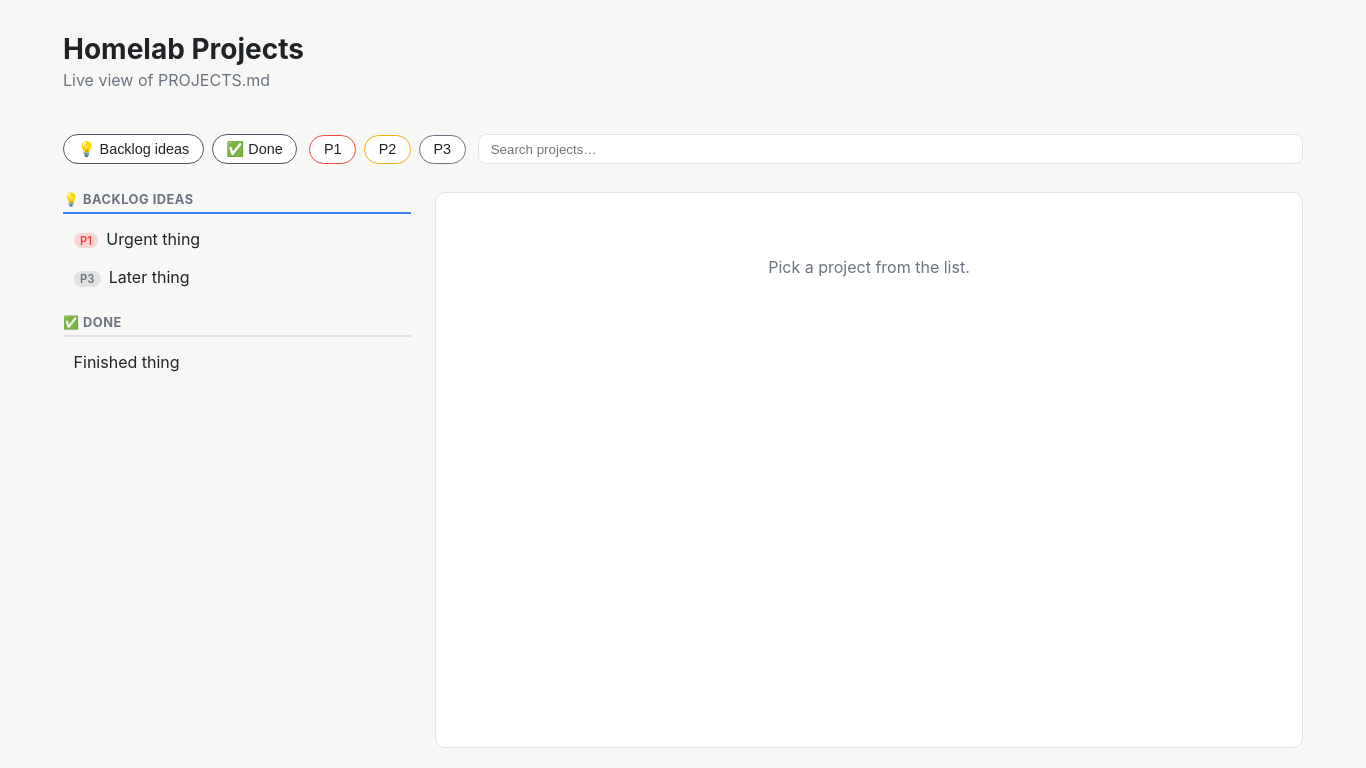
Test case: App priorities › hides a priority when its chip is toggled off, leaving untagged projects alone
expect the text "Urgent thing" is shown: met, box x1=106 y1=229 x2=200 y2=249
Click the button "P3".
click(442, 149)  # box x1=419 y1=134 x2=466 y2=164
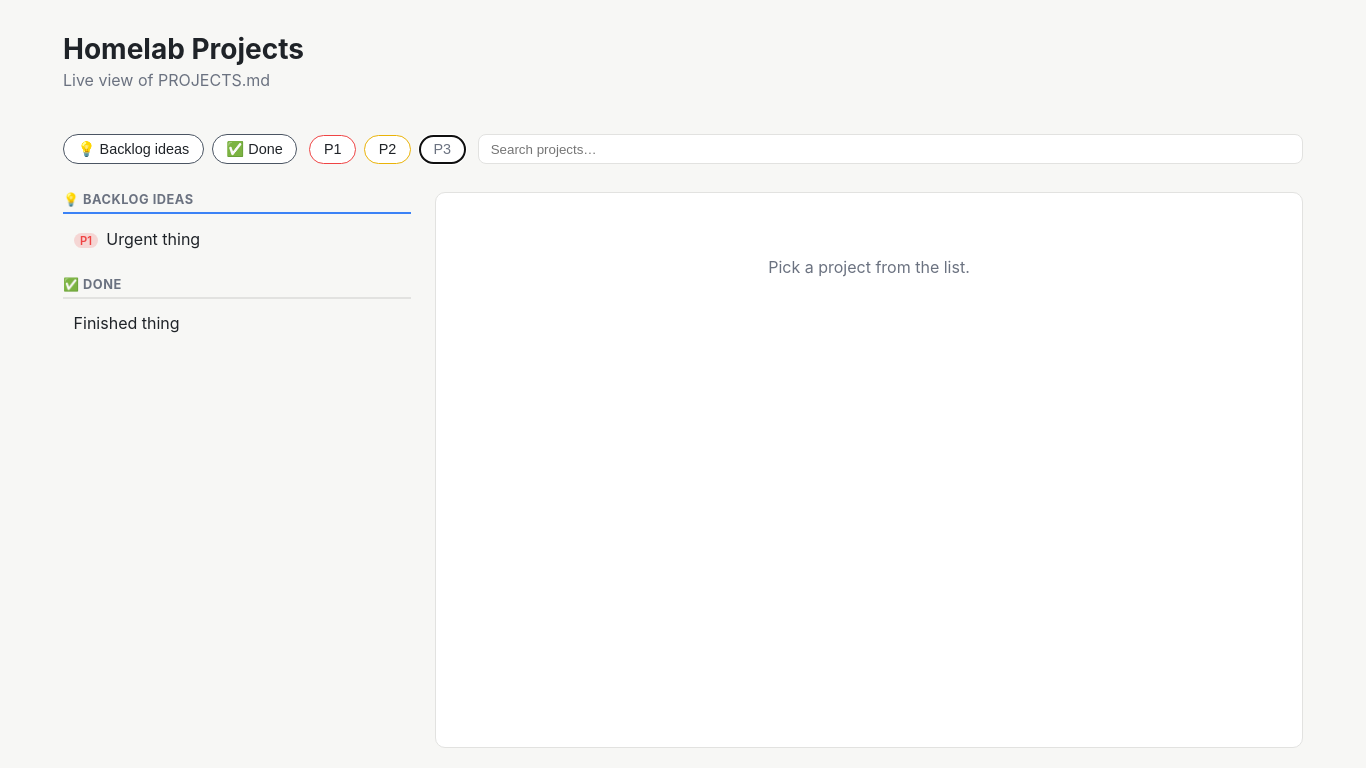
expect the text "Urgent thing" is shown: met, box x1=106 y1=229 x2=200 y2=249
expect the button "Later thing" is gone: met
